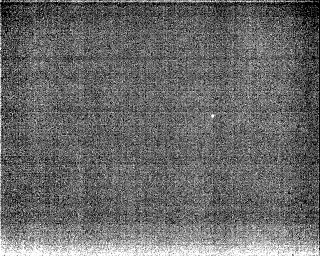BIRD: (209, 111, 217, 121)
